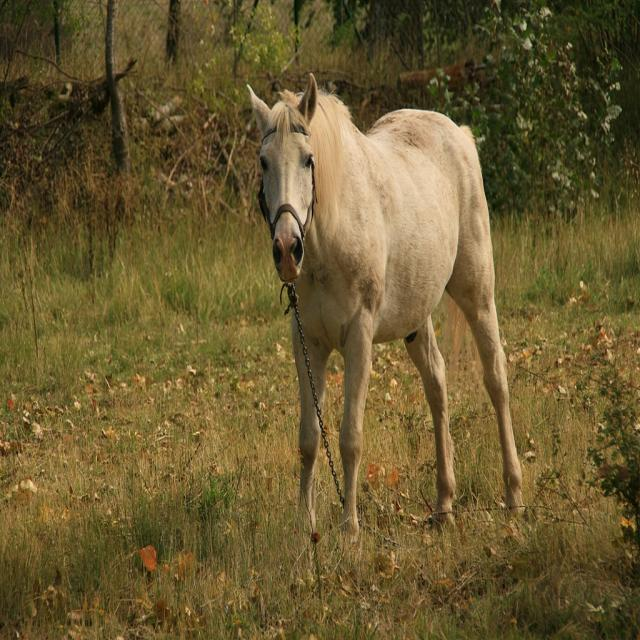Horse: (236, 70, 528, 551)
